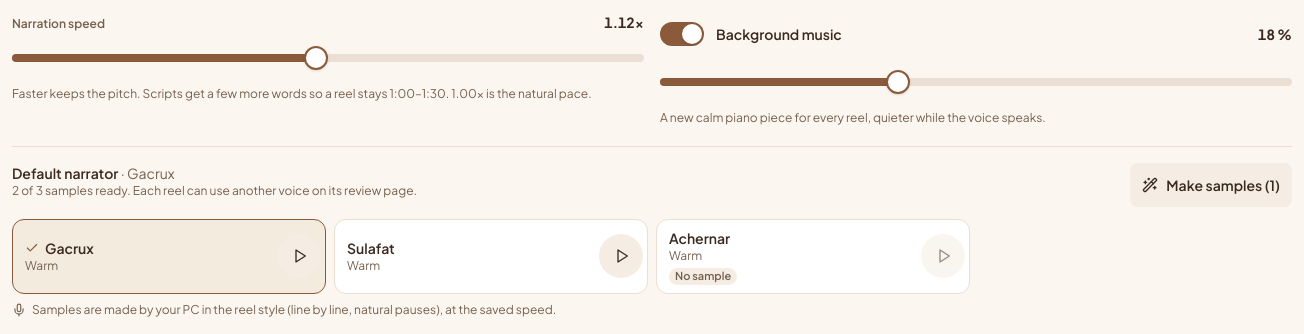
Scenario: NarratorMusic (Settings) › ▶ plays a ready sample through its signed URL (one at a time); no sample = disabled
expect the button named "Play Achernar sample" is disabled: met, box [921,234,965,278]
Step 1. Click the button named "Play Gacrux sample" → click(299, 256), box [277,234,321,278]
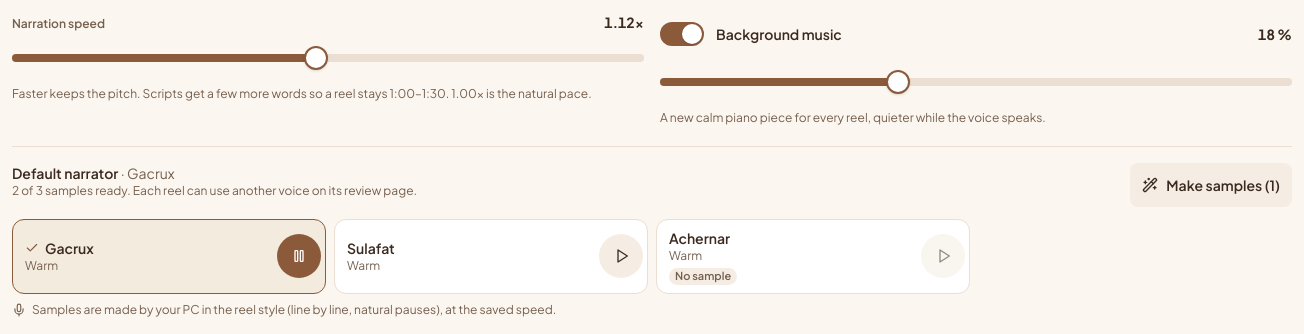
expect the button named "Stop Gacrux sample" is pressed: met, box [277,234,321,278]
Step 2. Click the button named "Play Sulafat sample" → click(621, 256), box [599,234,643,278]
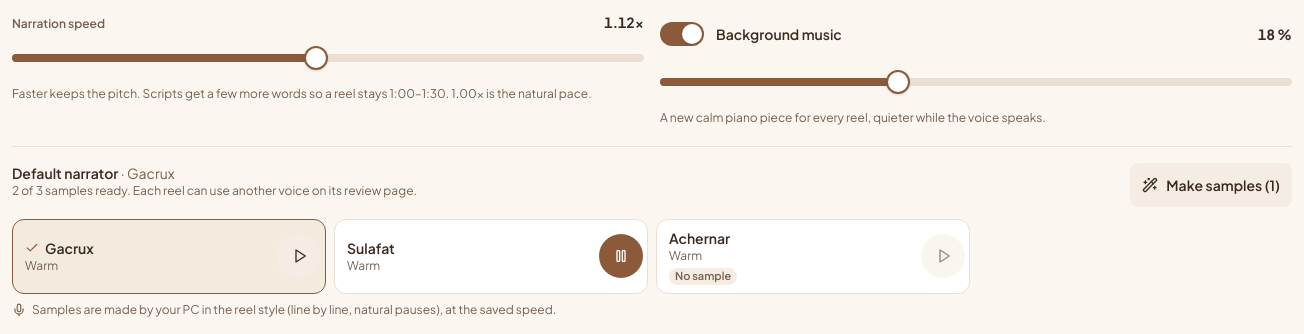
expect the button named "Play Gacrux sample" is shown: met, box [277,234,321,278]
Step 3. Click the button named "Stop Sulafat sample" → click(621, 256), box [599,234,643,278]
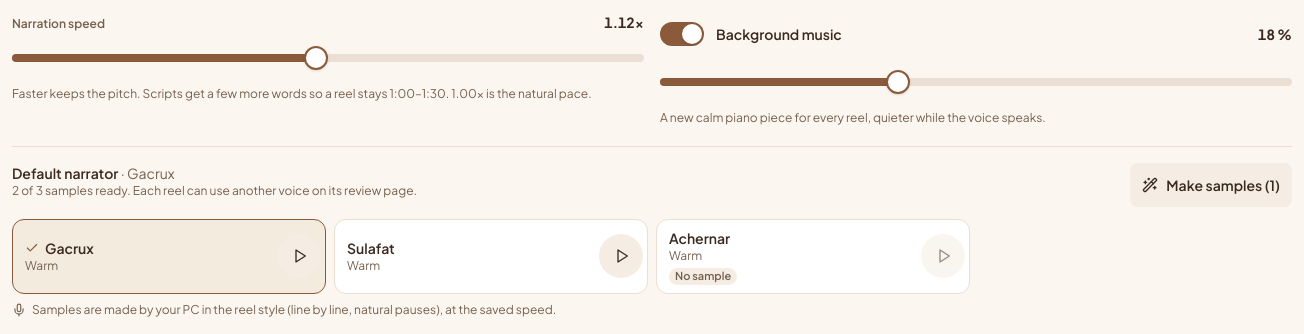
expect the button named "Play Sulafat sample" is shown: met, box [599,234,643,278]
